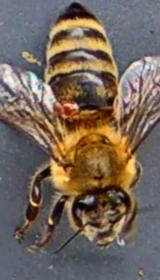varroa_mite: (50, 94, 86, 122)
